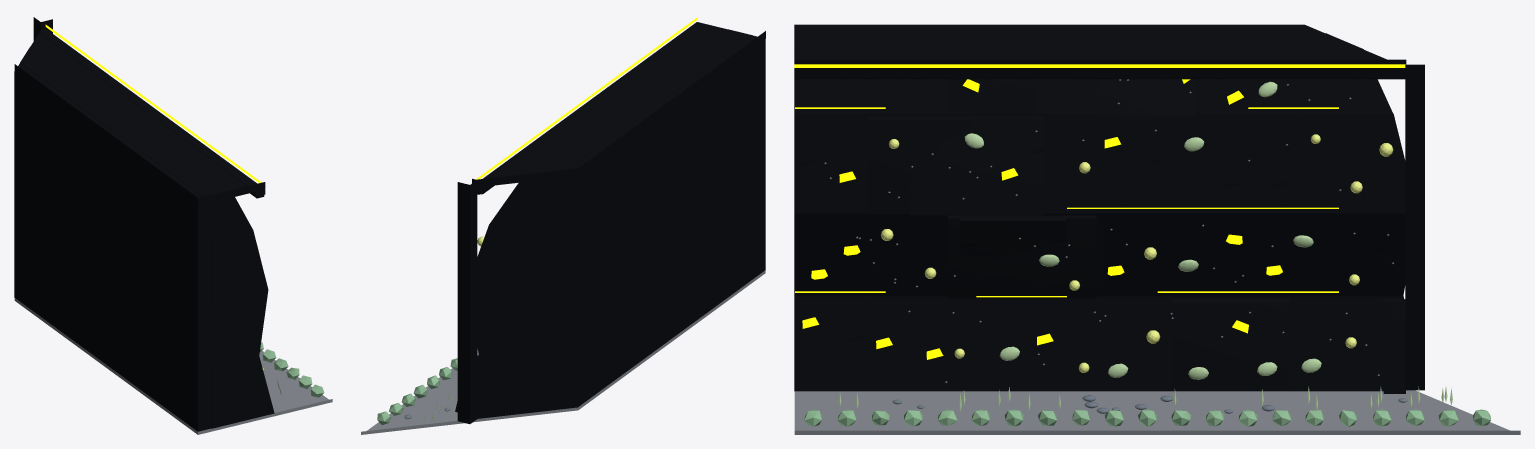
The model's file is tt_plinth_skirt_terrace_mitre_e.glb.
3 views of the same model, side by side, from view 1: azimuth 30°, elevation 25°; view 2: azimuth 150°, elevation 25°; view 3: azimuth 270°, elevation 25° (orthographic). The views are drawn at different scales.
Visible parts, largest first — view 1: Skirt_Core, Cap_Course, Course3_Facets, Course0_Facets, Course1_Facets, Course2_Facets, Base_Mat, Moss_Edge, Cap_Court_Line; view 2: Skirt_Core, Cap_Course, Course3_Facets, Course1_Facets, Course2_Facets, Course0_Facets, Corner_Post, Base_Mat, Moss_Edge, Cap_Court_Line; view 3: Course2_Facets, Course0_Facets, Course1_Facets, Course3_Facets, Base_Mat, Cap_Course, Corner_Post, Moss_Edge, Sloper_Holds, Cap_Court_Line, Jug_Holds, Cap_Drip_Edge (+3 smaller).
Part boxes in pixels (box(x1,y1,x2,y2)): Skirt_Core: box(14, 71, 211, 431); Cap_Course: box(14, 28, 265, 205); Course3_Facets: box(20, 47, 252, 239); Course0_Facets: box(211, 356, 274, 428); Course1_Facets: box(211, 290, 268, 367); Course2_Facets: box(211, 229, 268, 303); Base_Mat: box(14, 298, 332, 434); Moss_Edge: box(259, 342, 324, 397); Cap_Court_Line: box(45, 24, 265, 187); Skirt_Core: box(556, 39, 765, 409); Cap_Course: box(472, 22, 765, 192); Course3_Facets: box(490, 29, 752, 223); Course1_Facets: box(477, 282, 556, 356); Course2_Facets: box(477, 216, 556, 291); Course0_Facets: box(455, 347, 556, 418); Corner_Post: box(457, 180, 477, 423); Base_Mat: box(361, 270, 765, 434); Moss_Edge: box(377, 348, 477, 424); Cap_Court_Line: box(471, 17, 697, 183); Course2_Facets: box(794, 113, 1405, 215); Course0_Facets: box(794, 296, 1405, 393); Course1_Facets: box(794, 213, 1405, 298); Course3_Facets: box(794, 33, 1392, 116); Base_Mat: box(794, 390, 1520, 434); Cap_Course: box(794, 24, 1406, 77); Corner_Post: box(1405, 64, 1424, 390); Moss_Edge: box(804, 409, 1490, 426); Sloper_Holds: box(964, 81, 1321, 379); Cap_Court_Line: box(794, 64, 1405, 67); Jug_Holds: box(802, 79, 1282, 359); Cap_Drip_Edge: box(794, 77, 1405, 79).
Size of what is drawn, in the model's own units: 2.2 by 3.7 by 7.39.
8 materials, 3 textured.
